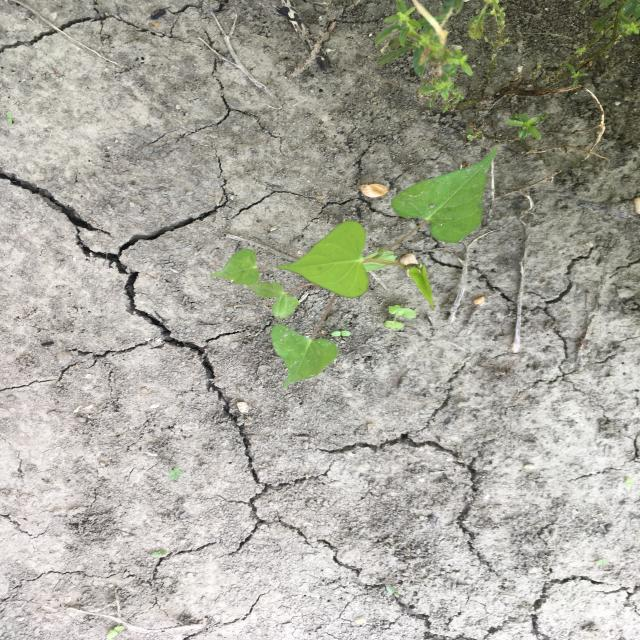MorningGlory: (208, 144, 502, 392)
